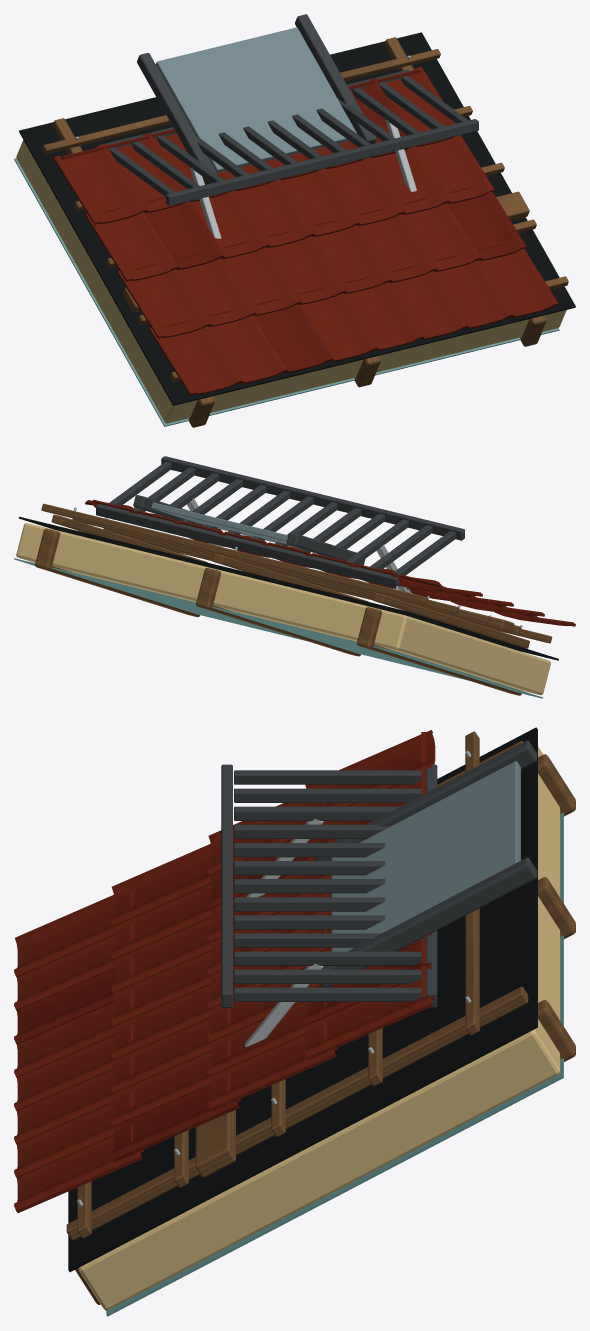
The model's file is modell.glb.
The picture shows the model from 3 angles, top to bottom: view 1: azimuth 30°, elevation 25°; view 2: azimuth 150°, elevation 25°; view 3: azimuth 270°, elevation 25°; orthographic projection. The views are drawn at different scales.
Parts seen in each view (by area): view 1: a03-deckziegel_deckung, a03-ausstieg_, a03-zusatzebene_zusatzebene, a03-tritt_, a03-daemmung_daemmung, a03-deckziegel_deckung.001, a03-lattung_lattung, a03-ausstieg_.001, a03-luftdichtheit_luftdichtheit, a03-sparren_tragwerk, a03-halter_, a03-befestigungsuntergrund_lattung; view 2: a03-daemmung_daemmung, a03-tritt_, a03-lattung_lattung, a03-sparren_tragwerk, a03-luftdichtheit_luftdichtheit, a03-deckziegel_deckung, a03-zusatzebene_zusatzebene, a03-ausstieg_.001, a03-ausstieg_, a03-befestigungsuntergrund_lattung, a03-halter_; view 3: a03-deckziegel_deckung, a03-tritt_, a03-zusatzebene_zusatzebene, a03-daemmung_daemmung, a03-ausstieg_, a03-lattung_lattung, a03-deckziegel_deckung.001, a03-ausstieg_.001, a03-luftdichtheit_luftdichtheit, a03-sparren_tragwerk, a03-befestigungsuntergrund_lattung, a03-halter_.
Boxes of the visible parts, bbox=[...] form: a03-deckziegel_deckung: bbox=[53, 66, 559, 395]; a03-ausstieg_: bbox=[155, 27, 356, 172]; a03-zusatzebene_zusatzebene: bbox=[19, 32, 575, 405]; a03-tritt_: bbox=[98, 69, 478, 205]; a03-daemmung_daemmung: bbox=[16, 140, 566, 423]; a03-deckziegel_deckung.001: bbox=[145, 77, 527, 373]; a03-lattung_lattung: bbox=[42, 37, 568, 381]; a03-ausstieg_.001: bbox=[137, 14, 376, 184]; a03-luftdichtheit_luftdichtheit: bbox=[14, 158, 559, 426]; a03-sparren_tragwerk: bbox=[188, 315, 546, 427]; a03-halter_: bbox=[190, 120, 416, 238]; a03-befestigungsuntergrund_lattung: bbox=[122, 191, 529, 312]; a03-daemmung_daemmung: bbox=[16, 523, 550, 695]; a03-tritt_: bbox=[96, 456, 464, 588]; a03-lattung_lattung: bbox=[41, 503, 552, 648]; a03-sparren_tragwerk: bbox=[35, 528, 521, 695]; a03-luftdichtheit_luftdichtheit: bbox=[14, 558, 542, 698]; a03-deckziegel_deckung: bbox=[85, 499, 575, 626]; a03-zusatzebene_zusatzebene: bbox=[18, 516, 558, 660]; a03-ausstieg_.001: bbox=[133, 495, 365, 565]; a03-ausstieg_: bbox=[151, 502, 299, 548]; a03-befestigungsuntergrund_lattung: bbox=[120, 534, 514, 632]; a03-halter_: bbox=[187, 498, 411, 593]; a03-deckziegel_deckung: bbox=[14, 730, 435, 1212]; a03-tritt_: bbox=[221, 764, 437, 1007]; a03-zusatzebene_zusatzebene: bbox=[68, 727, 537, 1272]; a03-daemmung_daemmung: bbox=[79, 746, 560, 1310]; a03-ausstieg_: bbox=[331, 761, 520, 951]; a03-lattung_lattung: bbox=[66, 731, 528, 1240]; a03-deckziegel_deckung.001: bbox=[14, 841, 431, 1162]; a03-ausstieg_.001: bbox=[315, 740, 537, 987]; a03-luftdichtheit_luftdichtheit: bbox=[106, 812, 563, 1316]; a03-sparren_tragwerk: bbox=[75, 754, 575, 1304]; a03-befestigungsuntergrund_lattung: bbox=[195, 1110, 235, 1177]; a03-halter_: bbox=[245, 818, 323, 1046].
Size of the model in its own units: 2.14 by 1.26 by 1.71.
Materials: 9 (3 with a texture image).
